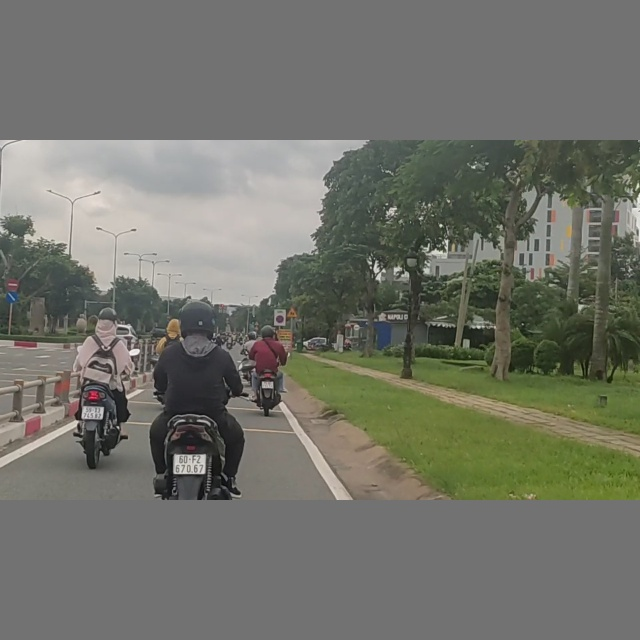P.102: (7, 279, 19, 290)
P.130: (276, 315, 285, 323)
R.302a: (5, 291, 18, 303)
W.225: (287, 306, 298, 317)
